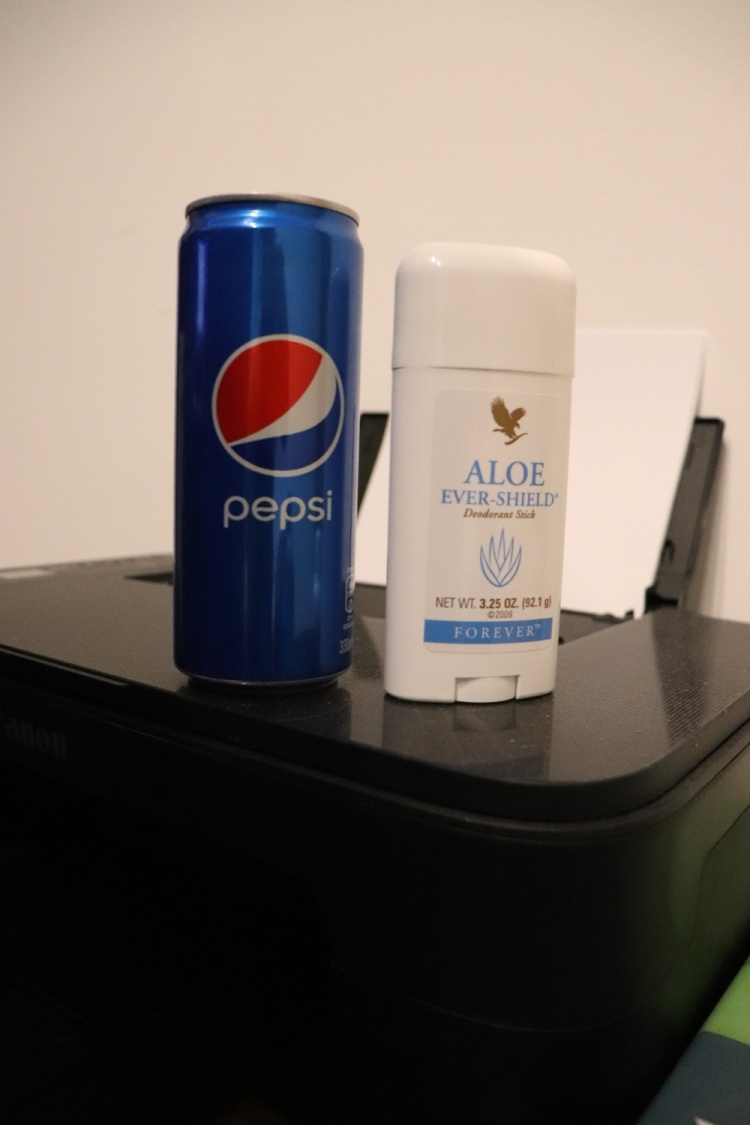pepsi: (151, 181, 374, 703)
